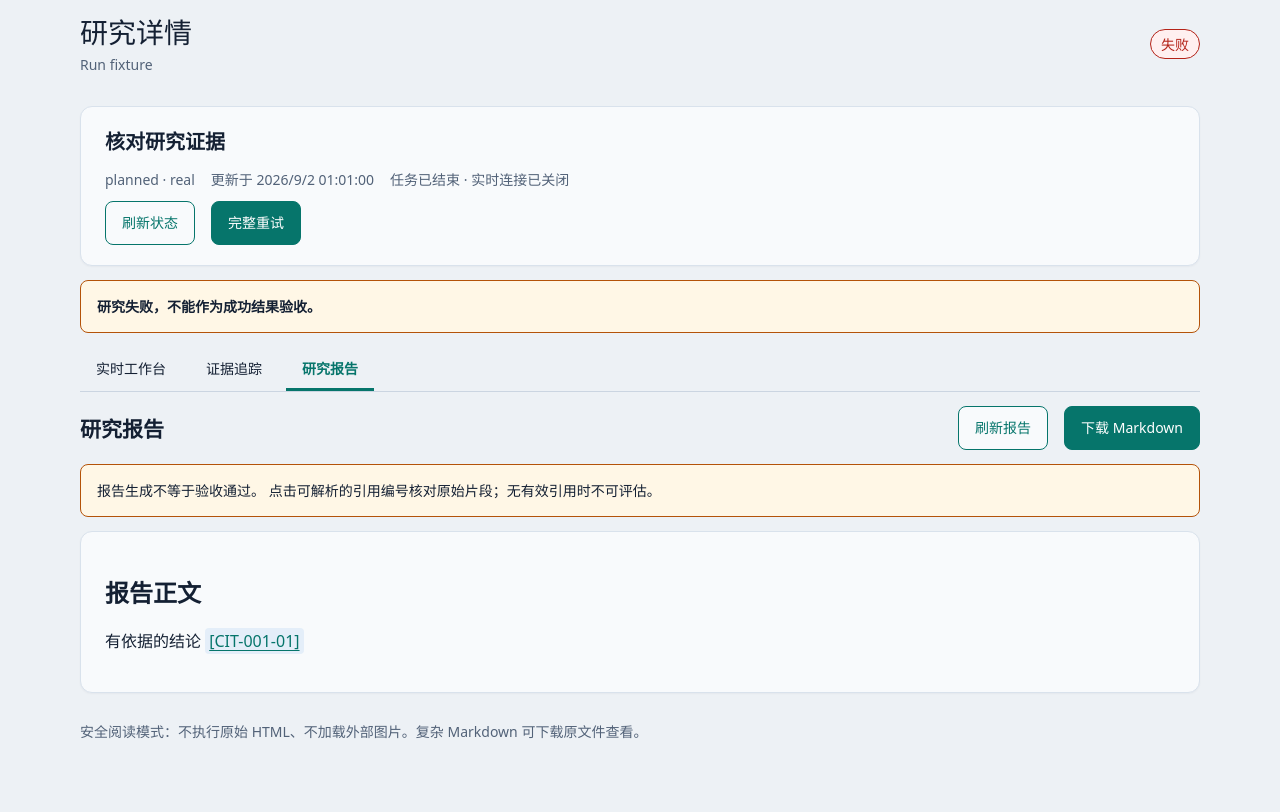
reports a download failure without pretending that a file was saved
Click the button "下载 Markdown" at (1132, 428), box [1064, 406, 1200, 450]
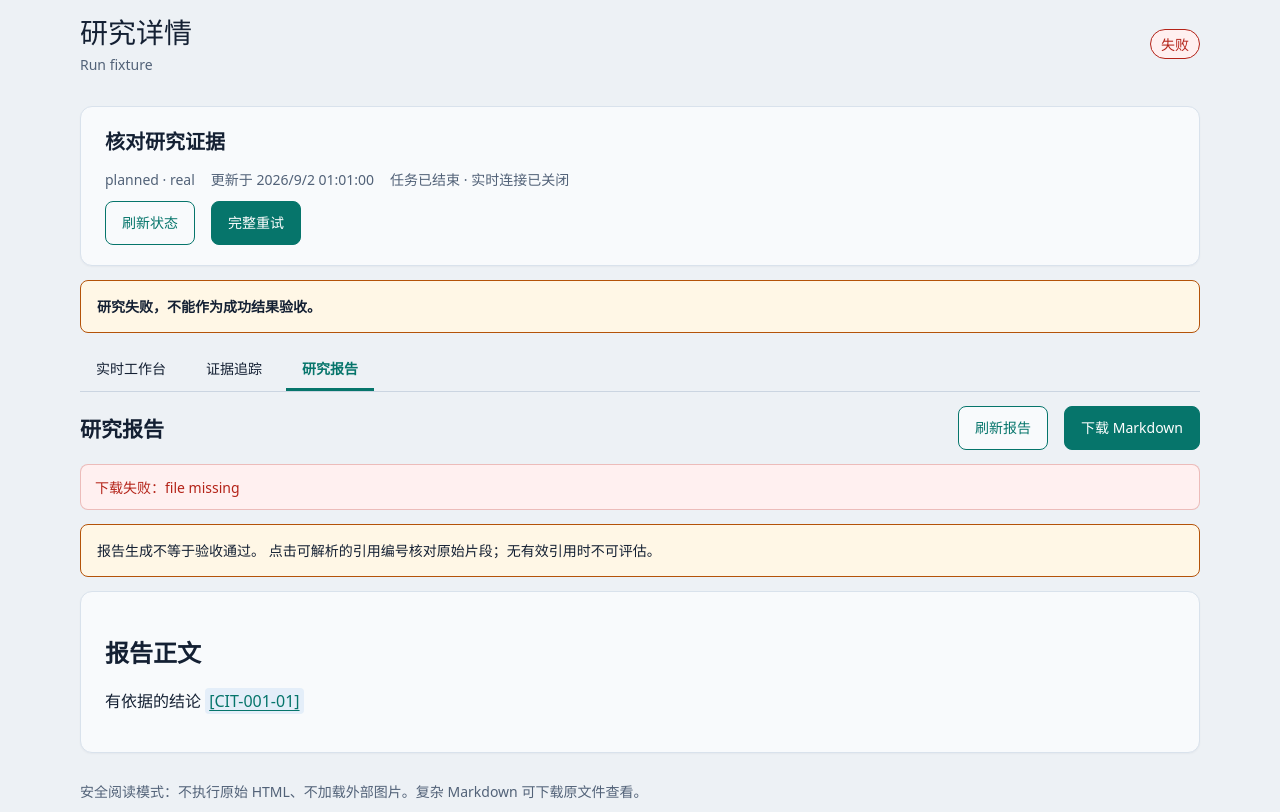
Expected: the text "下载失败：file missing" is shown, [80, 464, 1200, 510]
